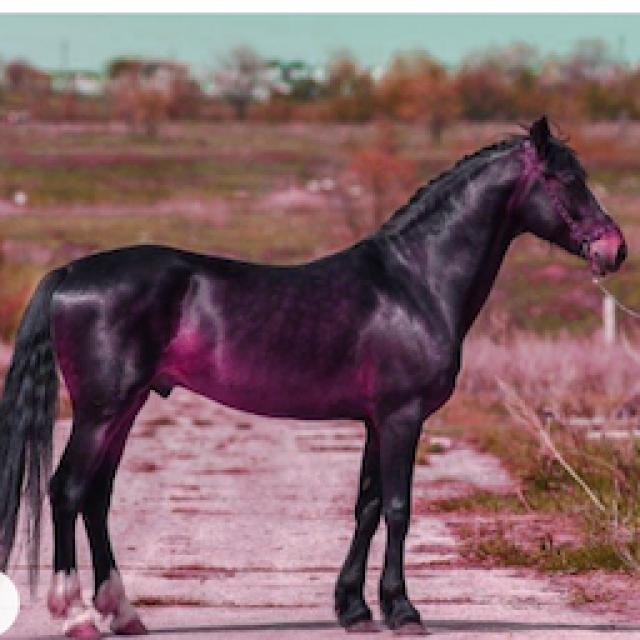Horse: (2, 110, 638, 638)
